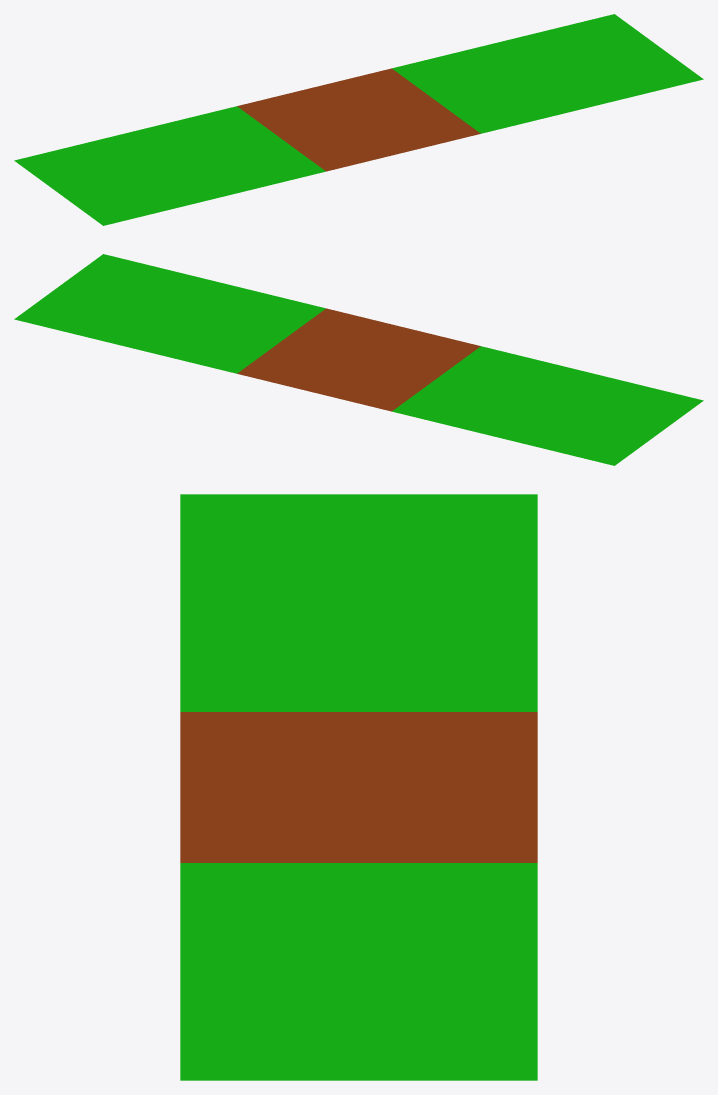
Rendered from terra.glb.
3 renders of one model, top to bottom at view 1: azimuth 30°, elevation 25°; view 2: azimuth 150°, elevation 25°; view 3: azimuth 270°, elevation 25°, orthographic. The views are drawn at different scales.
Parts seen in each view (by area): view 1: herba.E, Terra; view 2: herba.E, Terra; view 3: herba.E, Terra.
Part boxes in pixels (x1,y1,x2,y2): herba.E: (14, 14, 703, 225); Terra: (237, 68, 480, 171); herba.E: (14, 254, 703, 465); Terra: (237, 308, 480, 411); herba.E: (180, 494, 537, 1080); Terra: (180, 712, 537, 862).
Size of the model in its own units: 23.28 by 0 by 6.
